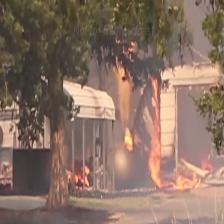fire: (100, 36, 212, 197), (61, 151, 98, 201)
